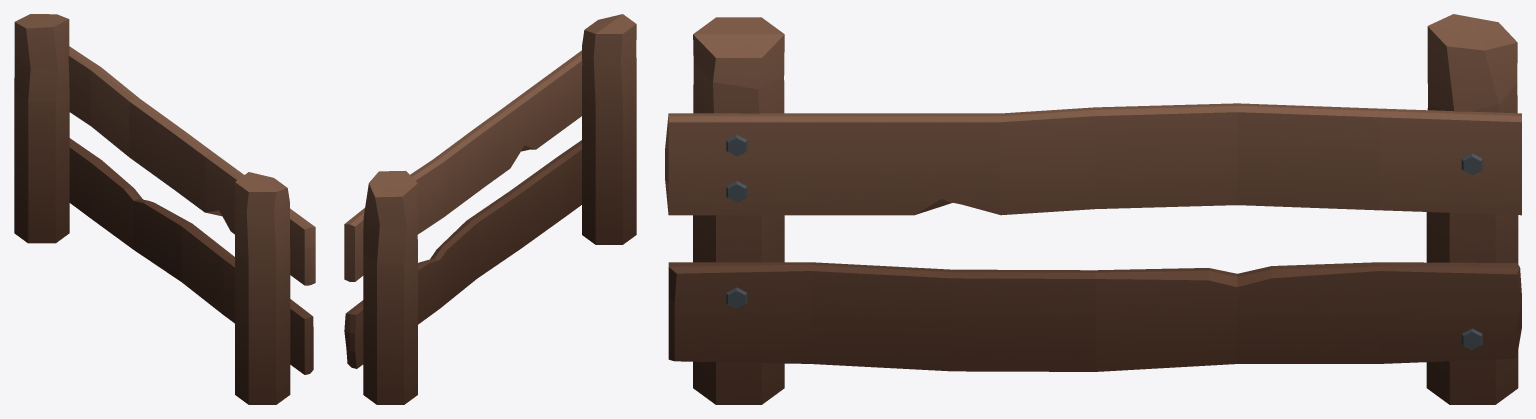
Rendered from płot2.fbx.
3 views of the same model, side by side, from view 1: azimuth 30°, elevation 25°; view 2: azimuth 150°, elevation 25°; view 3: azimuth 270°, elevation 25° (orthographic). The views are drawn at different scales.
Parts seen in each view (by area): view 1: płot2; view 2: płot2; view 3: płot2.
Part boxes in pixels (bbox=[...]): płot2: bbox=[14, 14, 315, 404]; płot2: bbox=[344, 14, 636, 404]; płot2: bbox=[665, 14, 1521, 404].
Size of the model in its own units: 30.59 by 108 by 232.
